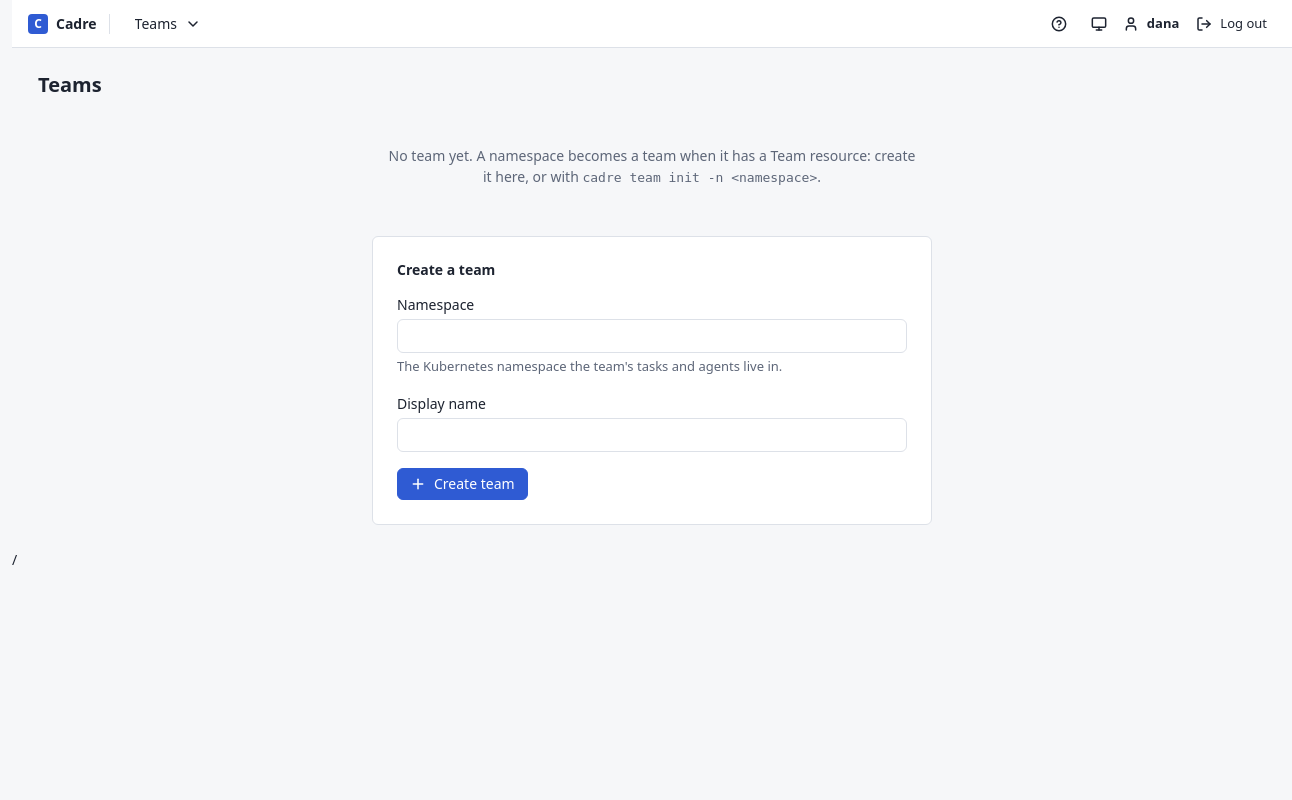
Test case: Teams, with no team yet › catches an invalid namespace before the request
Type "Team_X" into the field labelled "Namespace" at (652, 336), box [397,319,907,353]
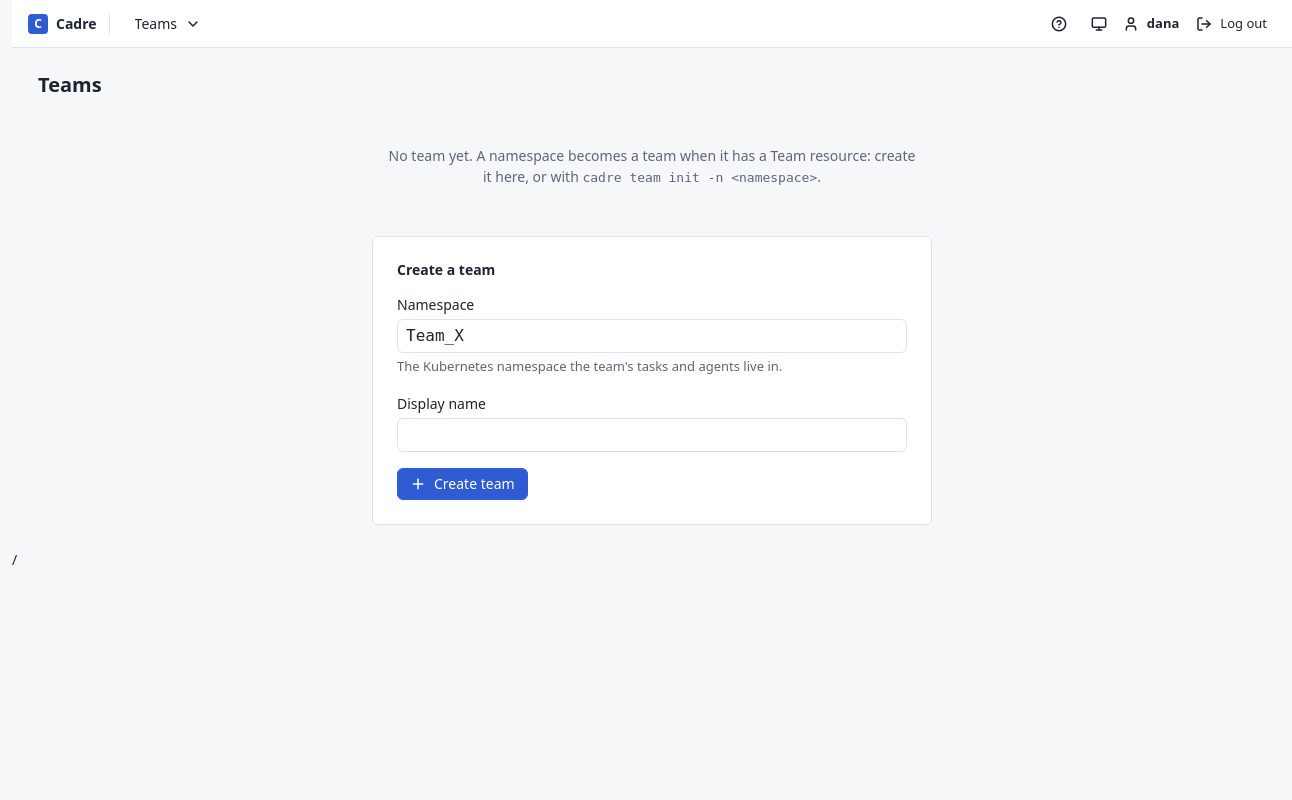
Click the button "Create team" at (462, 484), box [397,468,528,500]
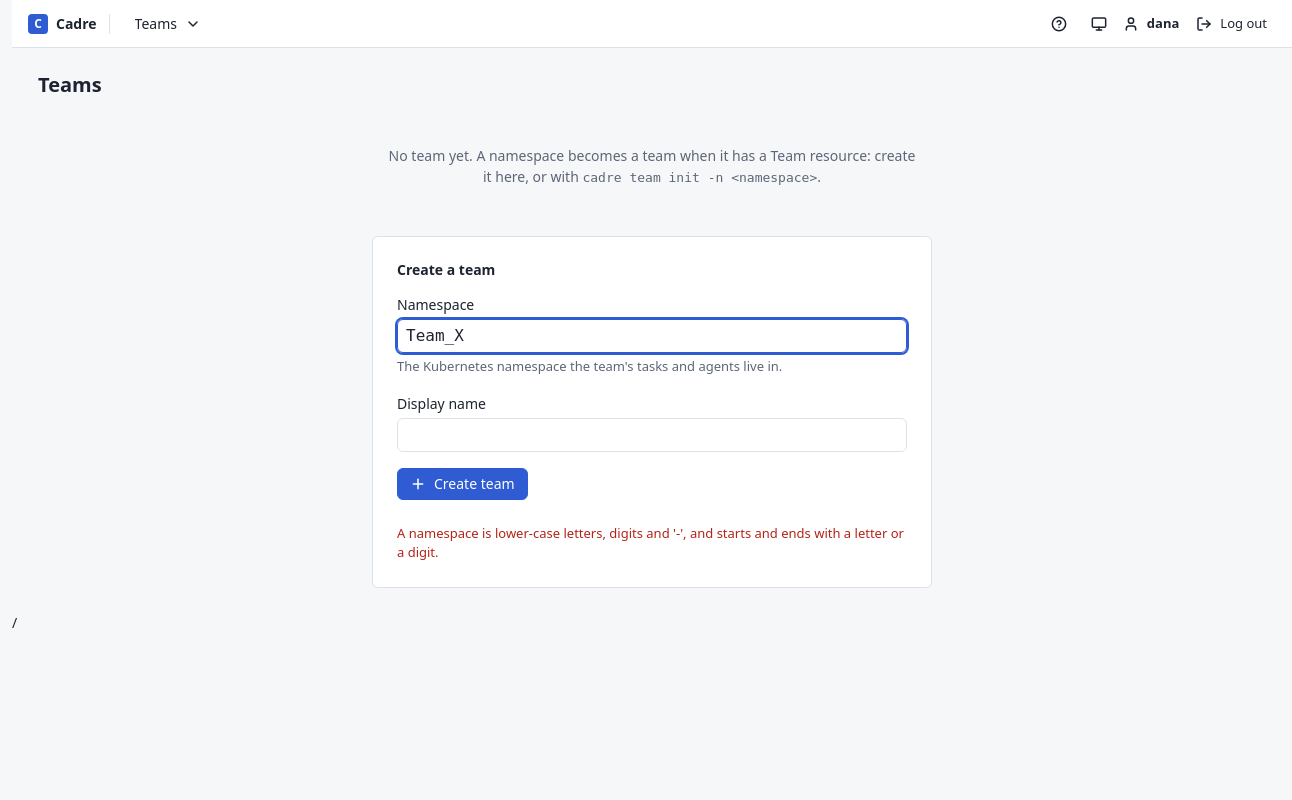
Expected: the text with test id "where" reads "/", [12,612,17,632]
Result: the message shows "lower-case" at [397,524,904,561]
